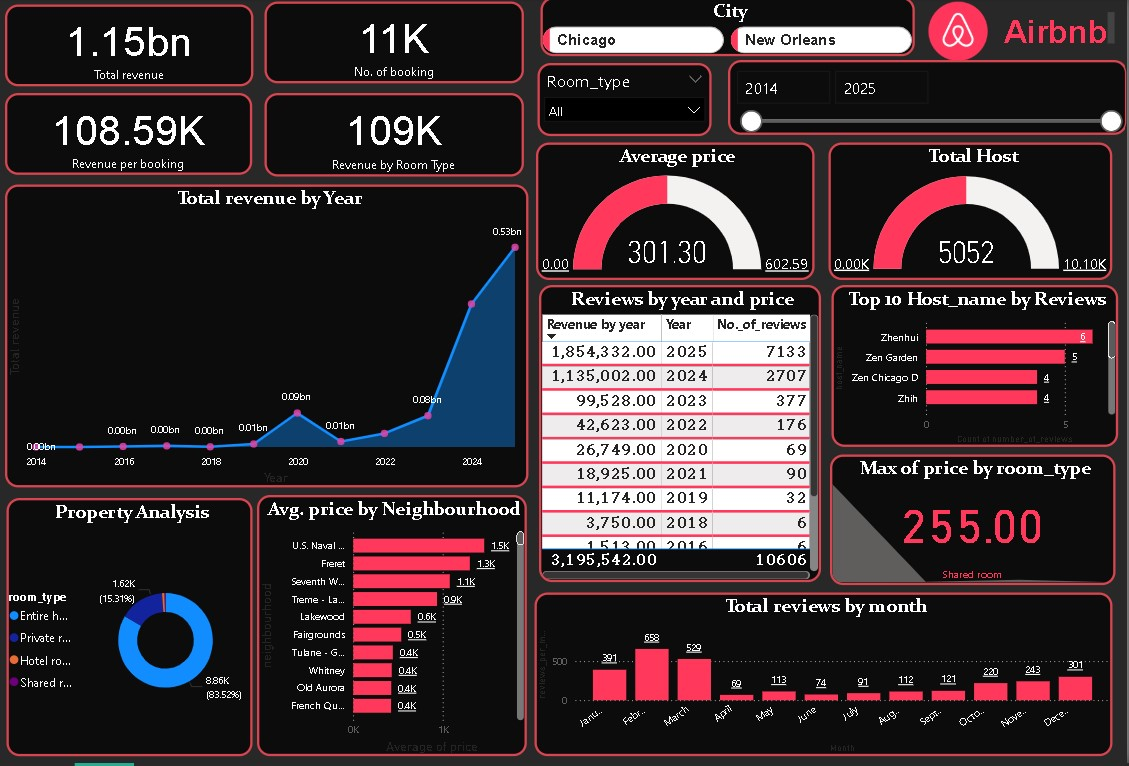

What the dashboard file says about the page in this screenshot:
{"tool":"powerbi","page":{"name":"Total revenue","canvas":[1300,880],"ordinal":0},"visuals":[{"type":"gauge","title":"Average  price","fields":{"Y":["Avg(Append1.price)"]},"box":[620,168,320,158],"z":0},{"type":"gauge","title":"Total Host","fields":{"Y":["Count(Append1.host_id)"]},"box":[956,168,326,158],"z":1000},{"type":"barChart","title":"Avg. price by Neighbourhood","fields":{"Category":["Append1.neighbourhood"],"Y":["Avg(Append1.price)"]},"box":[299.8,572.1,310.2,299.8],"z":2000},{"type":"image","box":[1064,0,84,78],"z":3000},{"type":"textbox","box":[1148,12,142,50],"z":4000},{"type":"columnChart","title":"Total reviews by month ","fields":{"Category":["Append1.last_review.Variation.Date Hierarchy.Month"],"Y":["Count(Append1.reviews_per_month)"]},"box":[618,684,664,188],"z":5000},{"type":"kpi","fields":{"TrendLine":["Append1.room_type"],"Indicator":["Max(Append1.price)"]},"box":[958,526,328,150],"z":6000},{"type":"tableEx","title":"Reviews by  year and price","fields":{"Values":["Sum(Append1.price)","Append1.last_review.Variation.Date Hierarchy.Year","CountNonNull(Append1.number_of_reviews)"]},"box":[623.8,330.9,324,341.2],"z":7000},{"type":"advancedSlicerVisual","fields":{"Values":["Append1.City"]},"box":[626,0,430,68],"z":8000},{"type":"card","fields":{"Values":["Append1.Total revenue"]},"box":[10,8,285,94],"z":9000},{"type":"card","fields":{"Values":["Append1.No. of booking"]},"box":[308,6,298,94],"z":10000},{"type":"barChart","title":"Top 10  Host_name by Reviews","fields":{"Category":["Append1.host_name"],"Y":["CountNonNull(Append1.number_of_reviews)"]},"box":[959.9,330.9,329.1,186.1],"z":11000},{"type":"slicer","title":"Room type","fields":{"Values":["Append1.room_type"]},"box":[622,76,200,84],"z":12000},{"type":"slicer","fields":{"Values":["Append1.last_review.Variation.Date Hierarchy.Year"]},"box":[841,72.4,458.4,86.2],"z":13000},{"type":"card","fields":{"Values":["Append1.Revenue per booking"]},"box":[10,110,284,94],"z":14000},{"type":"card","fields":{"Values":["Sum(Append1.Revenue by Room Type)"]},"box":[308,110,298,96],"z":15000},{"type":"lineChart","fields":{"Category":["Append1.last_review.Variation.Date Hierarchy.Year"],"Y":["Append1.Total revenue"]},"box":[10.3,215.4,601.4,348.1],"z":16000},{"type":"donutChart","title":"Property Analysis","fields":{"Y":["CountNonNull(Append1.host_id)"],"Category":["Append1.room_type"]},"box":[12.1,575.6,282.6,296.4],"z":17000}]}

Visuals, with their boxes in screenshot pixels (x1, y1, x2, y2), scaled from the page's 1300x880 canvas onto the 1129x766 screenshot:
"Average  price" gauge: 538,146,816,284
"Total Host" gauge: 830,146,1113,284
"Avg. price by Neighbourhood" barChart: 260,498,530,759
image: 924,0,997,68
textbox: 997,10,1120,54
"Total reviews by month " columnChart: 537,595,1113,759
kpi - Append1.room_type x Max(Append1.price): 832,458,1117,588
"Reviews by  year and price" tableEx: 542,288,823,585
advancedSlicerVisual - Append1.City: 544,0,917,59
card - Append1.Total revenue: 9,7,256,89
card - Append1.No. of booking: 267,5,526,87
"Top 10  Host_name by Reviews" barChart: 834,288,1119,450
"Room type" slicer: 540,66,714,139
slicer - Append1.last_review.Variation.Date Hierarchy.Year: 730,63,1128,138
card - Append1.Revenue per booking: 9,96,255,178
card - Sum(Append1.Revenue by Room Type): 267,96,526,179
lineChart - Append1.last_review.Variation.Date Hierarchy.Year x Append1.Total revenue: 9,187,531,491
"Property Analysis" donutChart: 11,501,256,759
